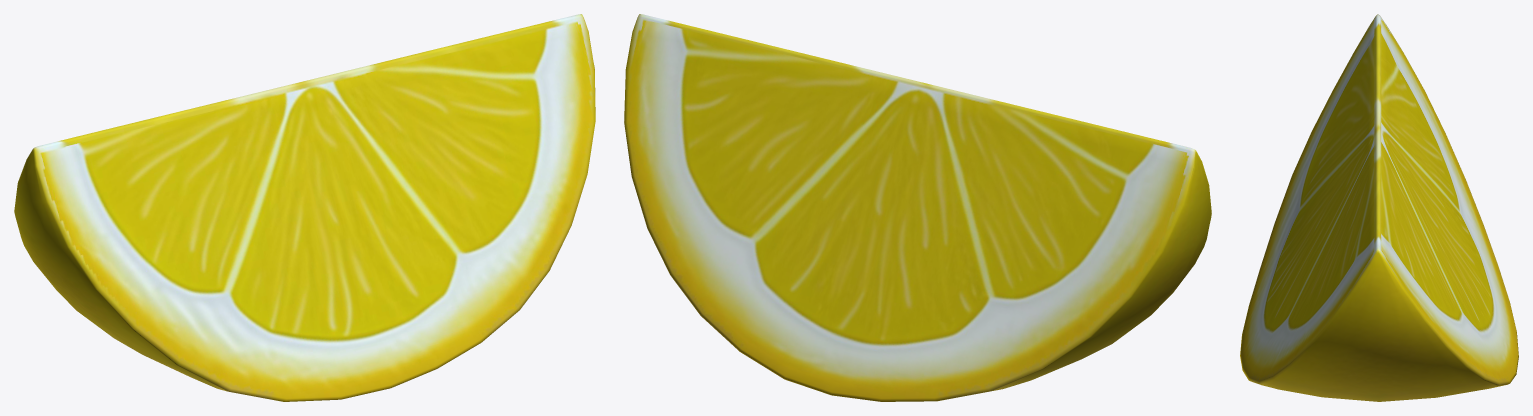
Rendered from lemon.glb.
The picture shows the model from 3 angles, left to right: view 1: azimuth 30°, elevation 25°; view 2: azimuth 150°, elevation 25°; view 3: azimuth 270°, elevation 25°; orthographic projection. The views are drawn at different scales.
Parts seen in each view (by area): view 1: GrapefruitSlice; view 2: GrapefruitSlice; view 3: GrapefruitSlice.
Part boxes in pixels (x1,y1,x2,y2): GrapefruitSlice: [14, 14, 595, 401]; GrapefruitSlice: [624, 14, 1211, 401]; GrapefruitSlice: [1240, 14, 1518, 401].
Size of the model in its own units: 1 by 0.4614 by 0.4882.
1 material, 1 textured.
